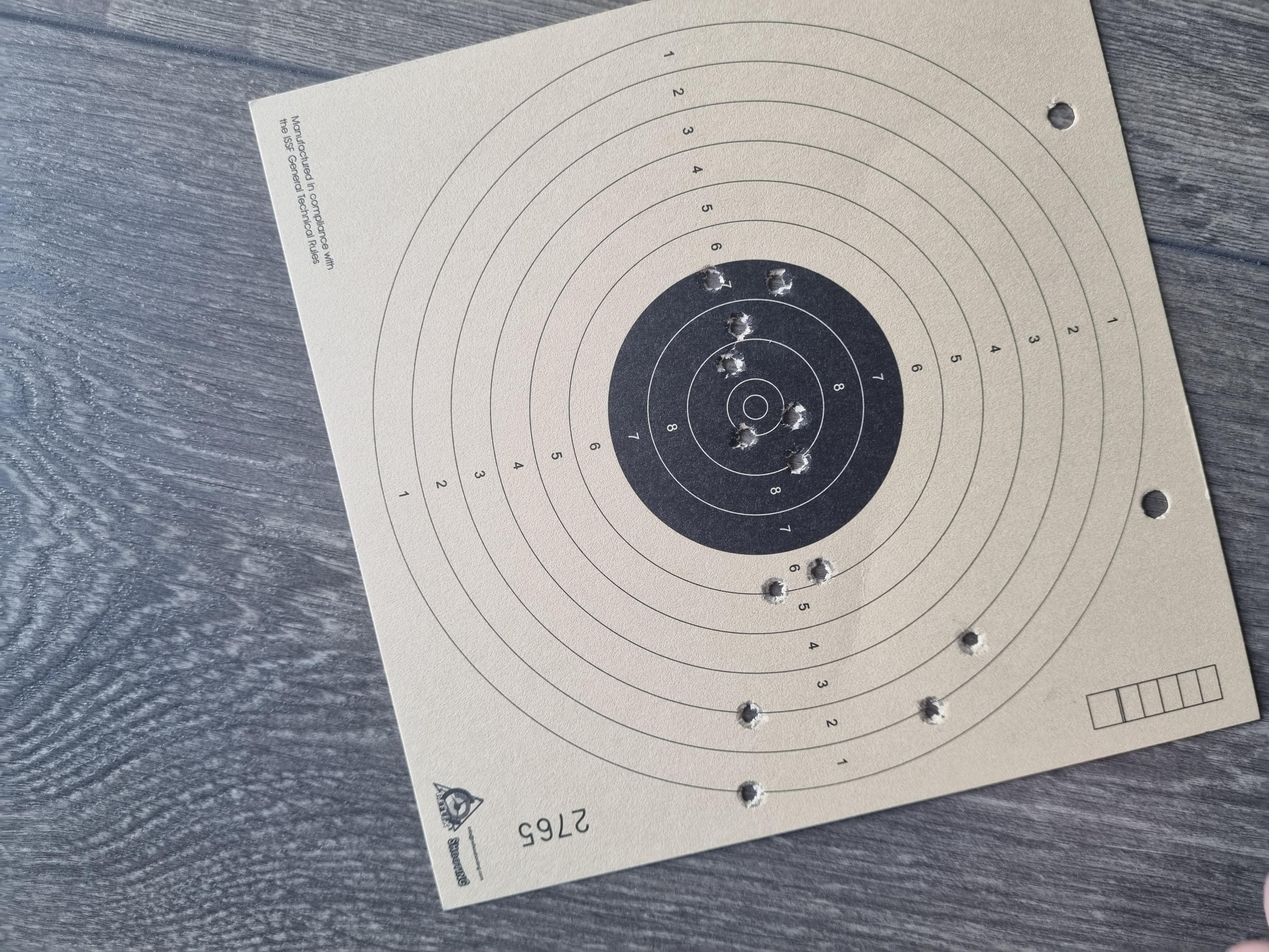hole: (763, 537, 805, 560), (301, 688, 341, 709), (668, 548, 707, 569), (395, 717, 431, 739), (486, 606, 527, 625), (634, 590, 675, 609), (462, 571, 499, 592), (694, 586, 734, 605), (873, 574, 911, 594), (298, 552, 335, 572), (815, 545, 853, 564), (192, 554, 227, 573), (880, 526, 914, 543)
